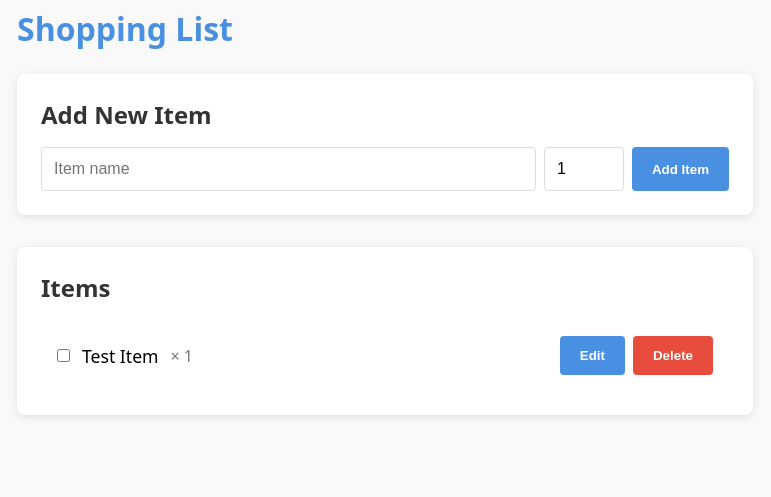
it: App Component - Error Handling Tests › handles error when toggling purchased status
This screenshot has width=771, height=497.
Expected: the text "Test Item" is shown, x1=82 y1=344 x2=158 y2=368
Click checkbox to toggle purchased status
Click the checkbox at {"x": 64, "y": 356}, box x1=57 y1=349 x2=70 y2=362
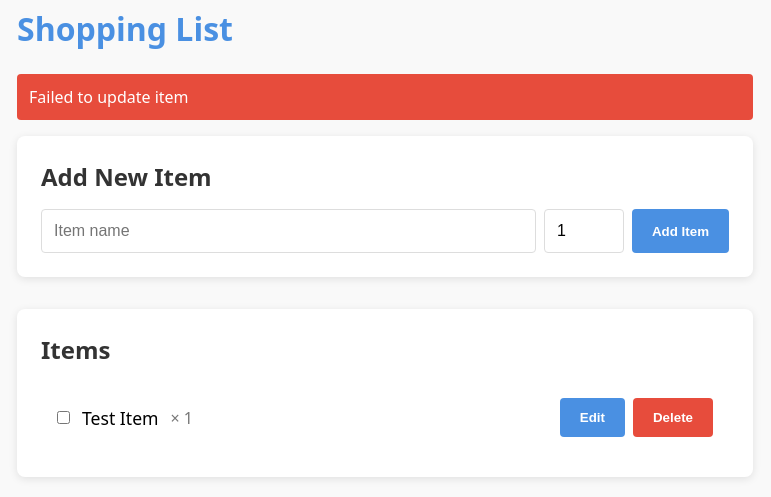
Result: the text "Failed to update item" is shown at x1=17 y1=74 x2=753 y2=120
